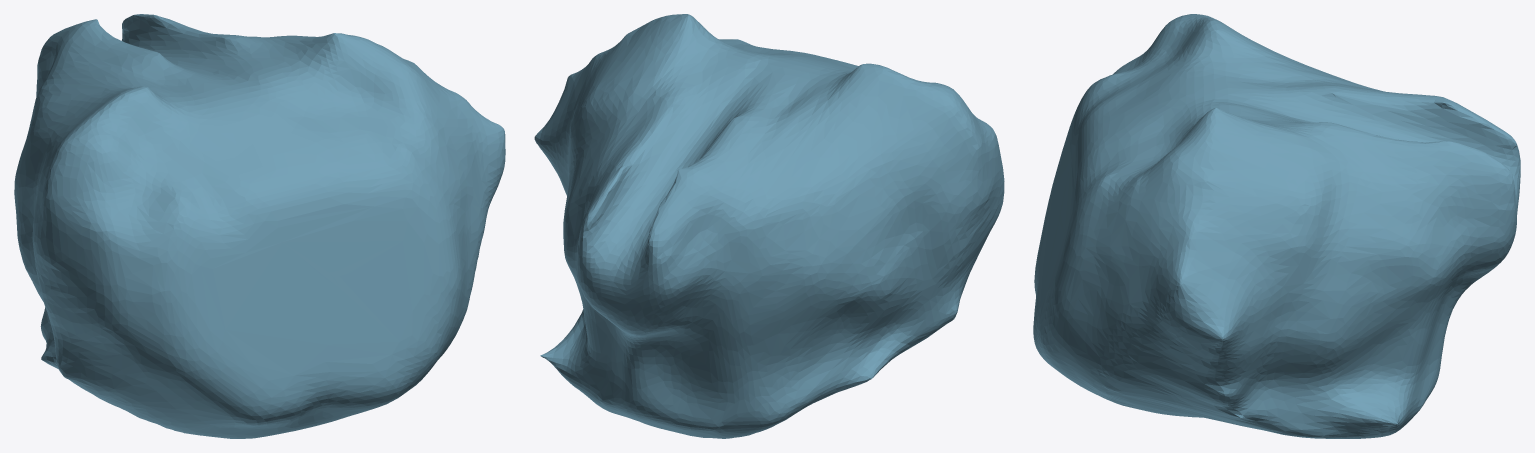
The picture shows the model from 3 angles, left to right: view 1: azimuth 30°, elevation 25°; view 2: azimuth 150°, elevation 25°; view 3: azimuth 270°, elevation 25°; orthographic projection. The views are drawn at different scales.
Visible parts, largest first — view 1: geometry_0; view 2: geometry_0; view 3: geometry_0.
Boxes of the visible parts, left/top/right/bottom form: geometry_0: left=14, top=14, right=505, bottom=438; geometry_0: left=534, top=14, right=1004, bottom=438; geometry_0: left=1033, top=14, right=1520, bottom=438.
Bounding box in the file's own units: 0.8245 × 0.6145 × 0.8066.
